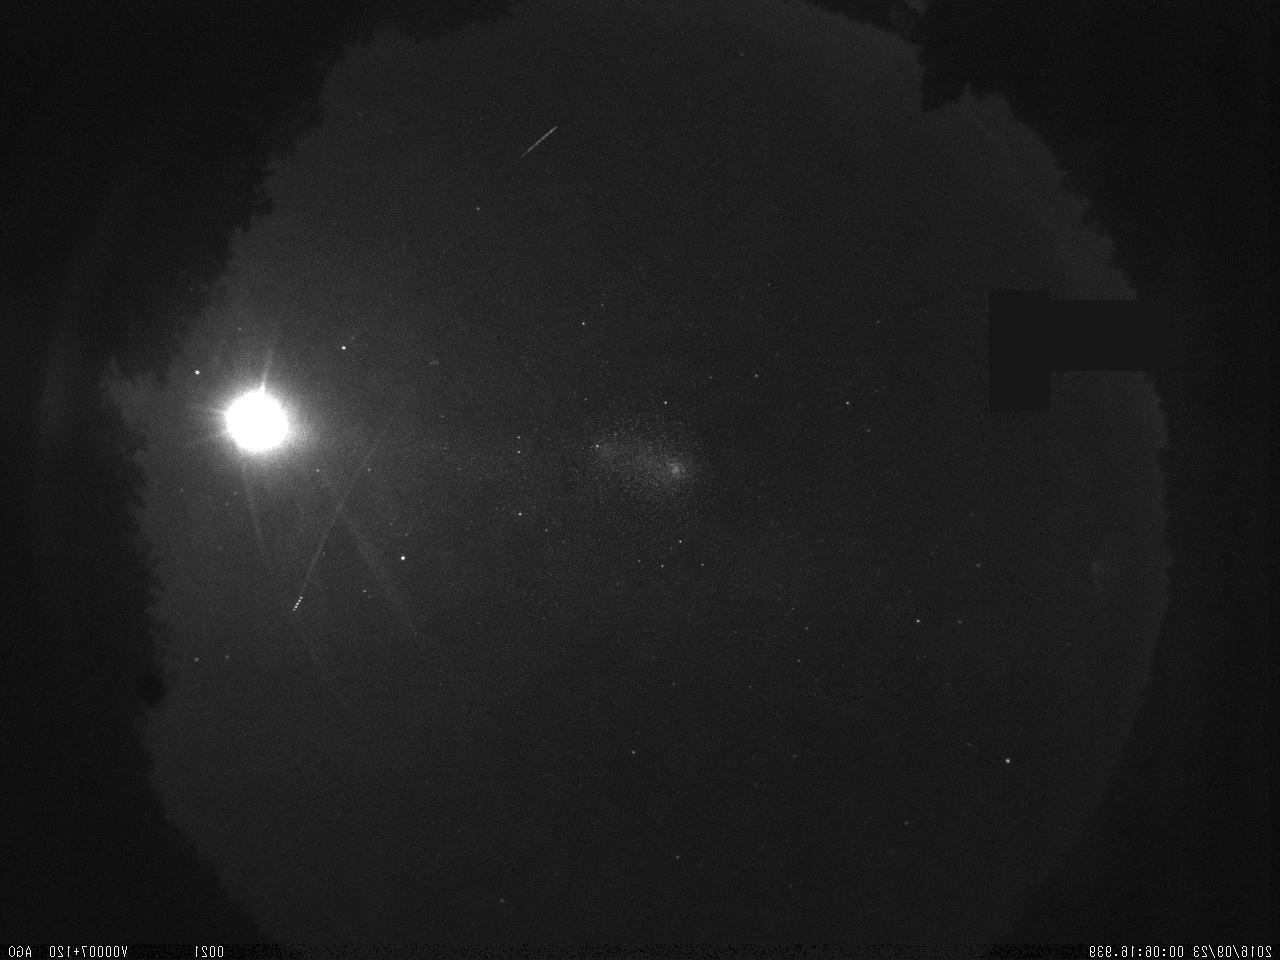meteor: (511, 119, 562, 167)
